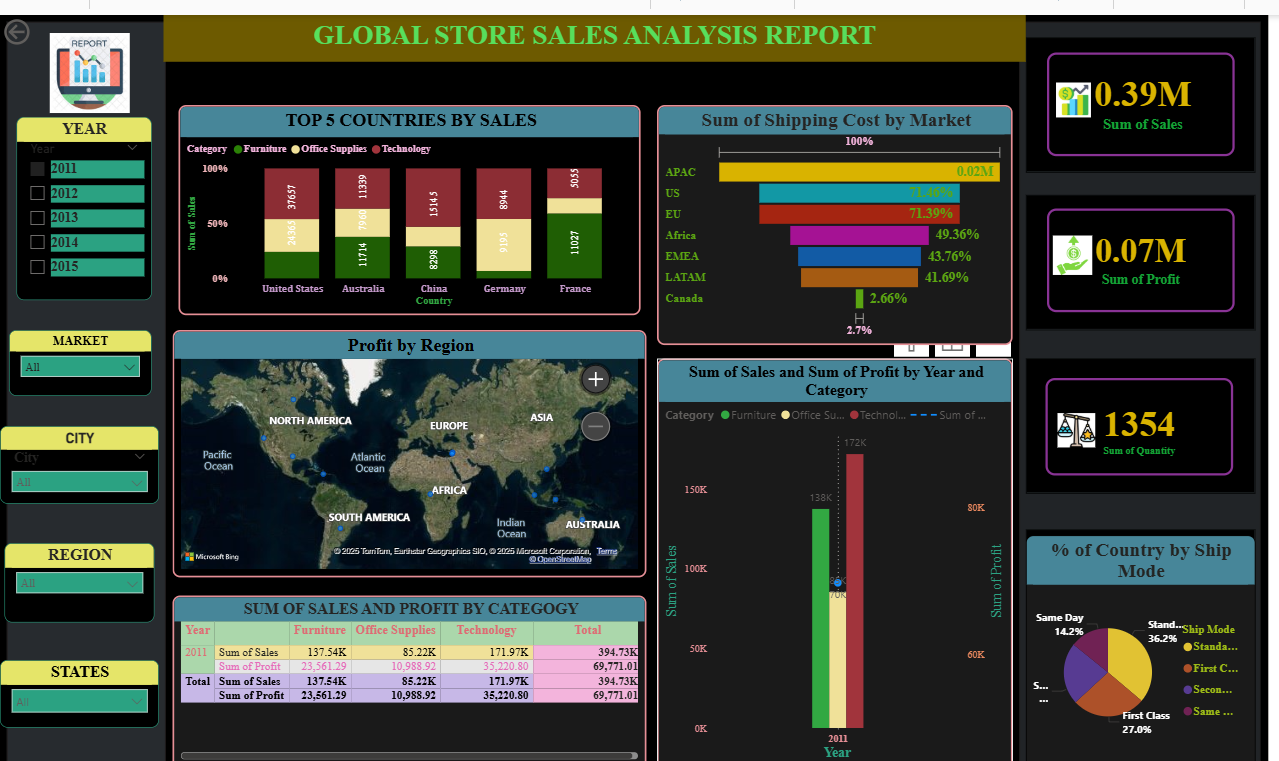

The page's visual inventory and layout, read from the dashboard file:
{"tool":"powerbi","page":{"name":"Page 4","canvas":[1500,900],"ordinal":3},"visuals":[{"type":"shape","box":[1197.8,0,301.7,899.7],"z":0},{"type":"shape","box":[0,0,204.1,899.7],"z":1000},{"type":"shape","box":[1213.7,26.6,271.5,159.7],"z":2000},{"type":"shape","box":[1213.7,212.9,271.5,159.7],"z":3000},{"type":"shape","box":[1213.7,406.4,271.5,159.7],"z":4000},{"type":"shape","box":[1213.7,608.6,271.5,291],"z":5000},{"type":"pieChart","title":"% of Country by Ship Mode","fields":{"Category":["Orders.Ship Mode"],"Y":["CountNonNull(Orders.Country)"]},"box":[1213.7,615.7,271.5,275],"z":6000},{"type":"card","fields":{"Values":["Sum(Orders.Sales)"]},"box":[1238.6,44.4,221.8,122.4],"z":7000},{"type":"card","fields":{"Values":["Sum(Orders.Profit)"]},"box":[1238.6,228.9,221.8,122.4],"z":8000},{"type":"slicer","title":"YEAR","fields":{"Values":["Orders.Ship Date.Variation.Date Hierarchy.Year"]},"box":[19.5,120.7,159.7,216.5],"z":9000},{"type":"slicer","title":"MARKET","fields":{"Values":["Orders.Market"]},"box":[10.6,372.6,168.6,78.1],"z":10000},{"type":"slicer","title":"CITY","fields":{"Values":["Orders.City"]},"box":[0,486.2,188.1,92.3],"z":11000},{"type":"slicer","title":"REGION","fields":{"Values":["Orders.Region"]},"box":[5.3,624.6,177.4,94],"z":12000},{"type":"slicer","title":"STATES","fields":{"Values":["Orders.State"]},"box":[0,763,188.1,79.9],"z":13000},{"type":"pivotTable","title":"SUM OF SALES AND PROFIT BY CATEGOGY","fields":{"Rows":["Orders.Order Date.Variation.Date Hierarchy.Year"],"Columns":["Orders.Category"],"Values":["Sum(Orders.Sales)","Sum(Orders.Profit)"]},"box":[204.1,686.7,560.7,204.1],"z":14000},{"type":"lineClusteredColumnComboChart","fields":{"Category":["Orders.Order Date.Variation.Date Hierarchy.Year"],"Y":["Sum(Orders.Sales)"],"Series":["Orders.Category"],"Y2":["Sum(Orders.Profit)"]},"box":[777.2,406.4,420.5,484.4],"z":15000},{"type":"map","title":" Profit by Region","fields":{"Category":["Orders.Region"]},"box":[204.1,372.6,560.7,292.8],"z":16000},{"type":"funnel","fields":{"Y":["Sum(Orders.Shipping Cost)"],"Category":["Orders.Market"]},"box":[777.2,106.5,420.5,283.9],"z":17000},{"type":"card","fields":{"Values":["Sum(Orders.Quantity)"]},"box":[1236.8,429.4,221.8,115.3],"z":18000},{"type":"image","box":[1236.8,255.5,63.9,56.8],"z":19000},{"type":"image","box":[1238.6,74.5,62.1,51.5],"z":20000},{"type":"image","box":[1245.7,459.6,55,63.9],"z":21000},{"type":"image","box":[19.5,16,173.9,104.7],"z":22000},{"type":"textbox","box":[193.4,0,1020.3,55],"z":23000},{"type":"actionButton","box":[0,0,100,40],"z":24000},{"type":"hundredPercentStackedColumnChart","title":"TOP 5 COUNTRIES BY SALES","fields":{"Category":["others.Country"],"Series":["others.Category"],"Y":["Sum(others.Sales)"]},"box":[211.2,106.5,546.5,248.4],"z":25000}]}

Visuals, with their boxes on the page's 1500x900 design canvas (x1, y1, x2, y2). These are canvas units, not pixel positions in the 1279x761 screenshot, which may show the page scaled, cropped or inside an application window:
shape: (x1=1198, y1=0, x2=1500, y2=900)
shape: (x1=0, y1=0, x2=204, y2=900)
shape: (x1=1214, y1=27, x2=1485, y2=186)
shape: (x1=1214, y1=213, x2=1485, y2=373)
shape: (x1=1214, y1=406, x2=1485, y2=566)
shape: (x1=1214, y1=609, x2=1485, y2=900)
"% of Country by Ship Mode" pieChart: (x1=1214, y1=616, x2=1485, y2=891)
card - Sum(Orders.Sales): (x1=1239, y1=44, x2=1460, y2=167)
card - Sum(Orders.Profit): (x1=1239, y1=229, x2=1460, y2=351)
"YEAR" slicer: (x1=20, y1=121, x2=179, y2=337)
"MARKET" slicer: (x1=11, y1=373, x2=179, y2=451)
"CITY" slicer: (x1=0, y1=486, x2=188, y2=578)
"REGION" slicer: (x1=5, y1=625, x2=183, y2=719)
"STATES" slicer: (x1=0, y1=763, x2=188, y2=843)
"SUM OF SALES AND PROFIT BY CATEGOGY" pivotTable: (x1=204, y1=687, x2=765, y2=891)
lineClusteredColumnComboChart - Orders.Order Date.Variation.Date Hierarchy.Year x Sum(Orders.Sales): (x1=777, y1=406, x2=1198, y2=891)
" Profit by Region" map: (x1=204, y1=373, x2=765, y2=665)
funnel - Sum(Orders.Shipping Cost) x Orders.Market: (x1=777, y1=106, x2=1198, y2=390)
card - Sum(Orders.Quantity): (x1=1237, y1=429, x2=1459, y2=545)
image: (x1=1237, y1=256, x2=1301, y2=312)
image: (x1=1239, y1=74, x2=1301, y2=126)
image: (x1=1246, y1=460, x2=1301, y2=524)
image: (x1=20, y1=16, x2=193, y2=121)
textbox: (x1=193, y1=0, x2=1214, y2=55)
actionButton: (x1=0, y1=0, x2=100, y2=40)
"TOP 5 COUNTRIES BY SALES" hundredPercentStackedColumnChart: (x1=211, y1=106, x2=758, y2=355)
